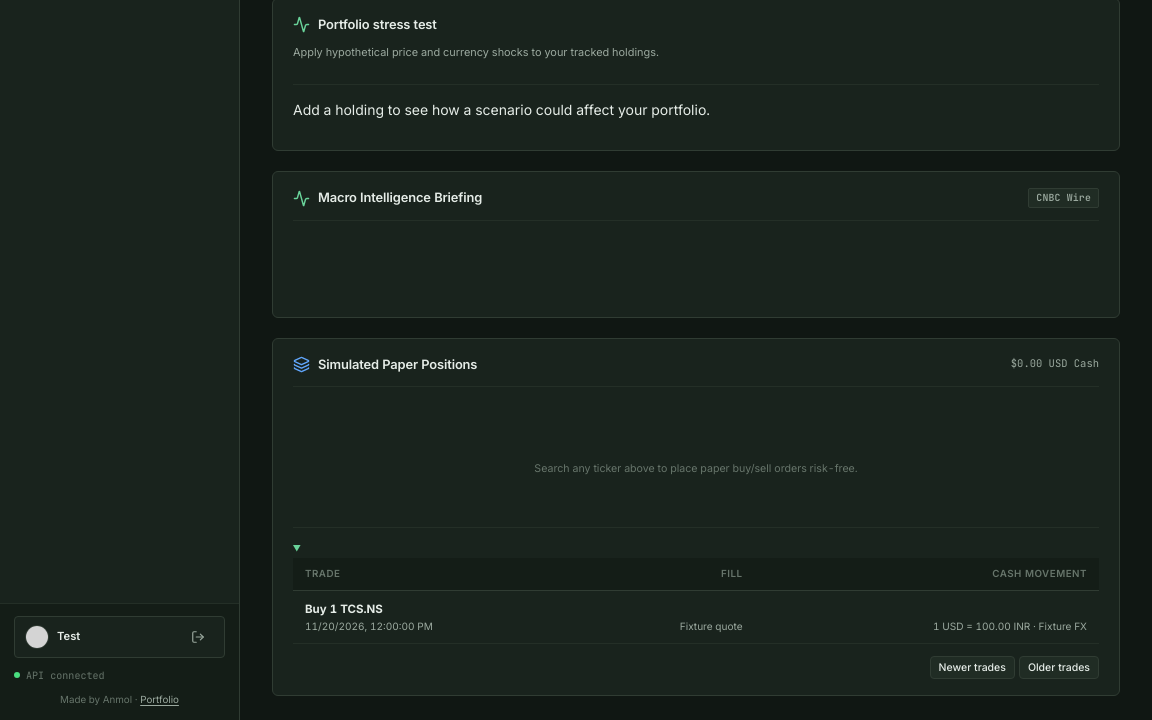
shows the executed paper trade and pages to older orders
(page scrolled)
Check: the text "Buy 1 TCS.NS" is shown, box [305,602,383,616]
Check: the text "1 USD = 100.00 INR · Fixture FX" is shown, box [933,620,1087,632]
Click the button "Older trades".
click(1059, 667)  # box [1019,656,1099,679]
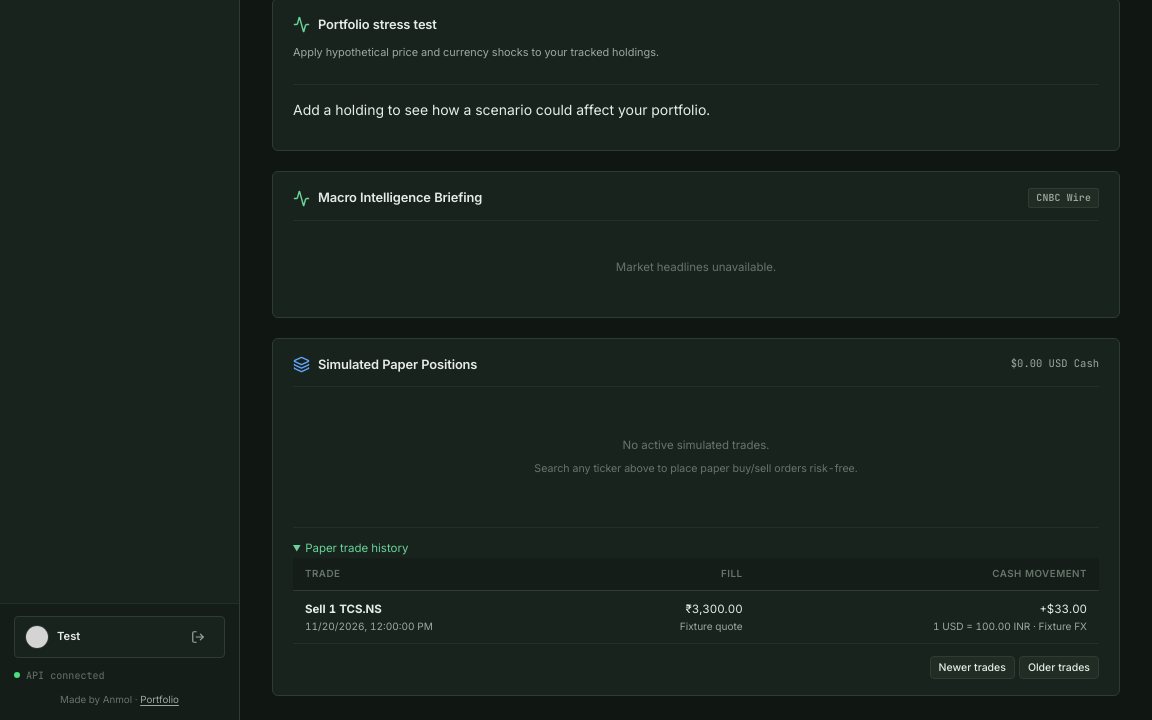
Check: the text "Sell 1 TCS.NS" is shown, box [305,602,382,616]
